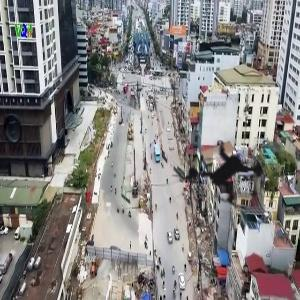drone: (151, 103, 300, 253)
